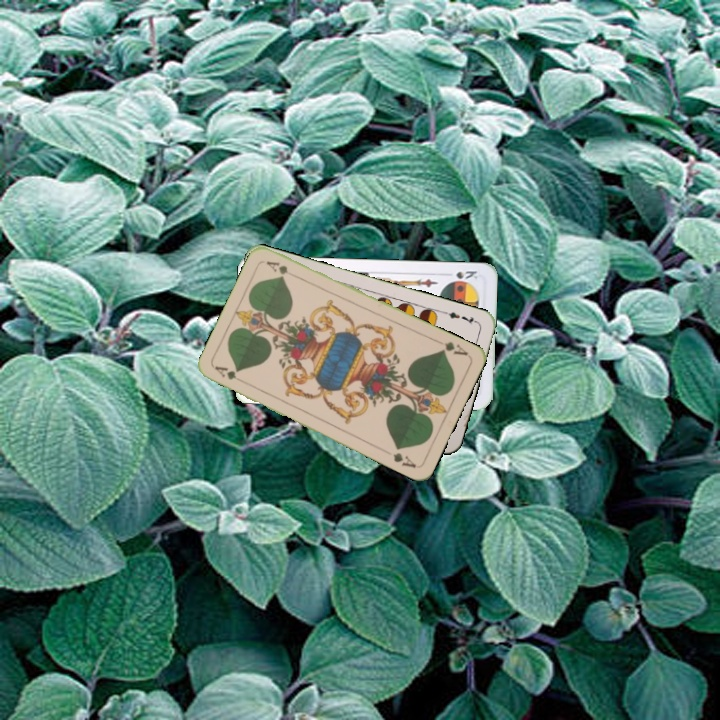E7: (440, 307, 480, 327)
GA: (211, 362, 248, 387), (432, 336, 471, 359)
SK: (452, 267, 480, 282)
